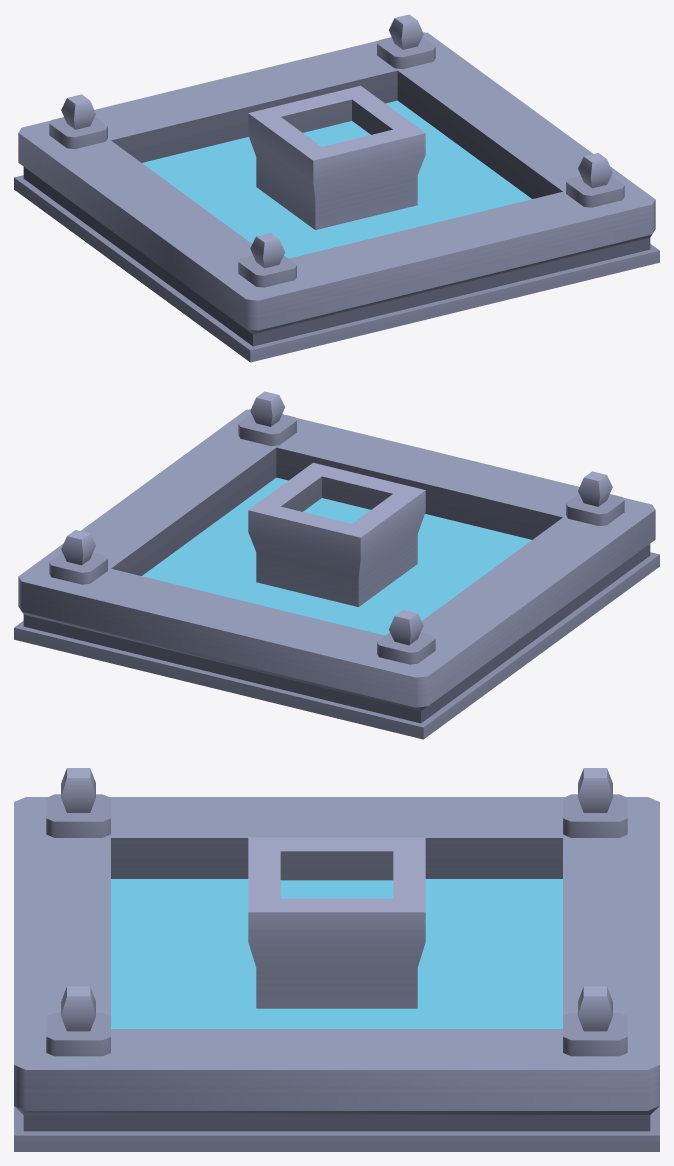
The model's file is fountain-square-detail.fbx.
3 views of the same model, one above another, from view 1: azimuth 30°, elevation 25°; view 2: azimuth 150°, elevation 25°; view 3: azimuth 270°, elevation 25° (orthographic). The views are drawn at different scales.
Parts seen in each view (by area): view 1: fountain-square-detail, (%ignore); view 2: fountain-square-detail, (%ignore); view 3: fountain-square-detail, (%ignore).
Boxes of the visible parts, x1,y1,x2,y2 form: fountain-square-detail: (14, 14, 659, 362); (%ignore): (142, 100, 531, 258); fountain-square-detail: (14, 391, 659, 739); (%ignore): (142, 477, 531, 635); fountain-square-detail: (14, 768, 659, 1151); (%ignore): (111, 879, 562, 1028).
Size of the model in its own units: 200 by 48 by 200.
Materials: 2 (1 with a texture image).
